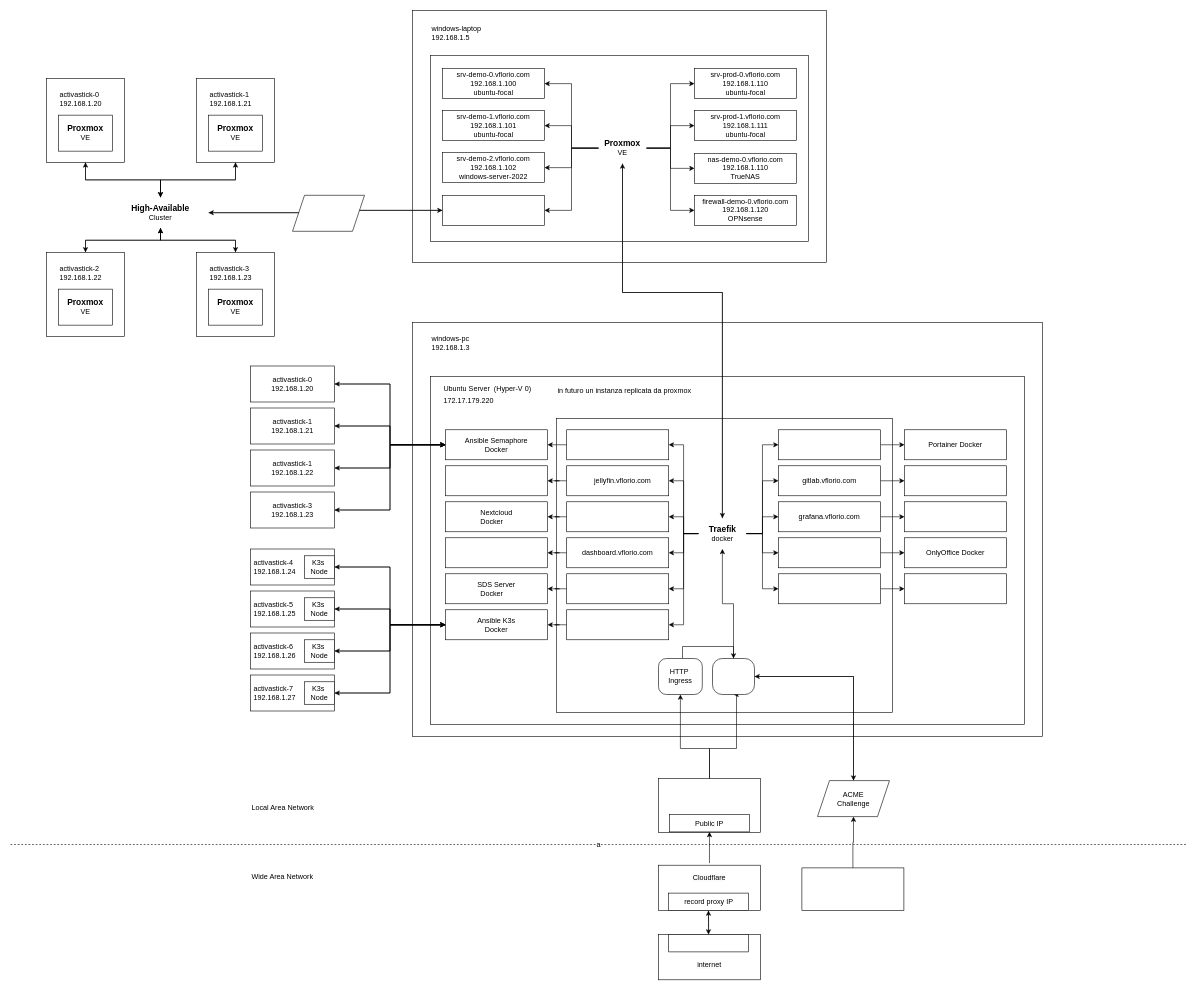
This 1198x991 diagram has some shape labels left out. Here are the shapes that lost their labels. From the top down, the box of each, then its label:
(292, 195, 364, 231): BIND9 DNS Server
(442, 195, 544, 225): ha-cluster-demo-0.vflorio.com 192.168.1.*
(566, 429, 669, 460): activastick-*.vflorio.com
(778, 429, 880, 460): portainer.vflorio.com
(445, 465, 548, 496): Jellyfin Docker
(904, 465, 1006, 496): GitLab Docker
(566, 501, 669, 532): nextcloud.vflorio.com
(904, 501, 1006, 532): Grafana Docker
(445, 537, 548, 568): HomeLab Dashboard Docker
(778, 537, 880, 568): onlyoffice.vflorio.com
(566, 573, 669, 604): sds-server.vflorio.com
(778, 573, 880, 604): bitwarden.vflorio.com
(904, 573, 1006, 604): Bitwarden Docker
(566, 609, 669, 640): k3s-cluster-0.vflorio.com
(712, 658, 754, 694): HTTPS Ingress
(658, 778, 760, 832): Iliadbox Port Forwarding
(801, 867, 904, 910): Let's Encrypt TLS Directory
(668, 934, 748, 952): *.vflorio.com
